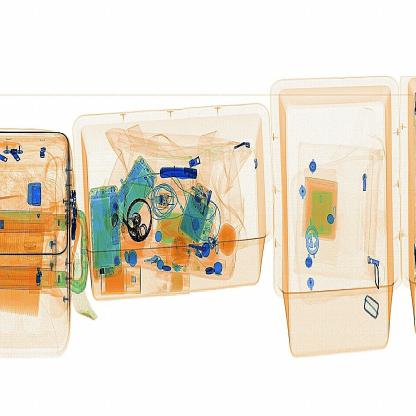knife: (158, 167, 206, 184)
